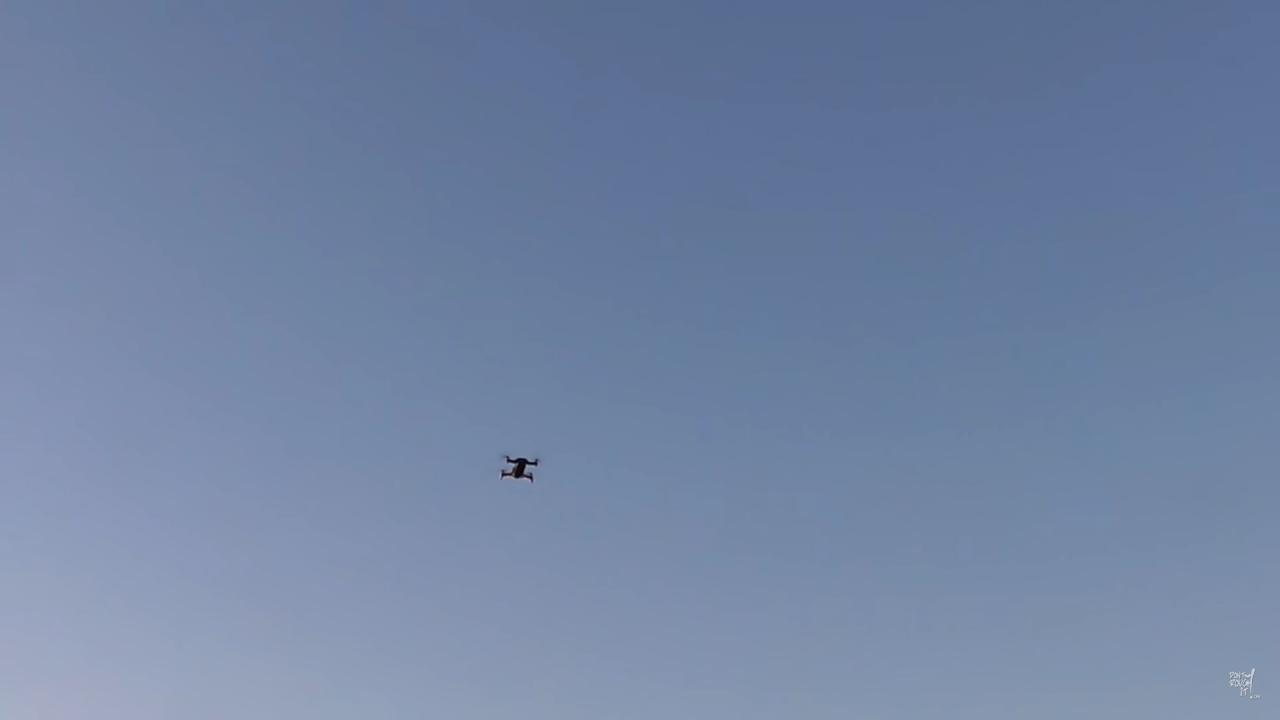Drone: (486, 440, 552, 497)
